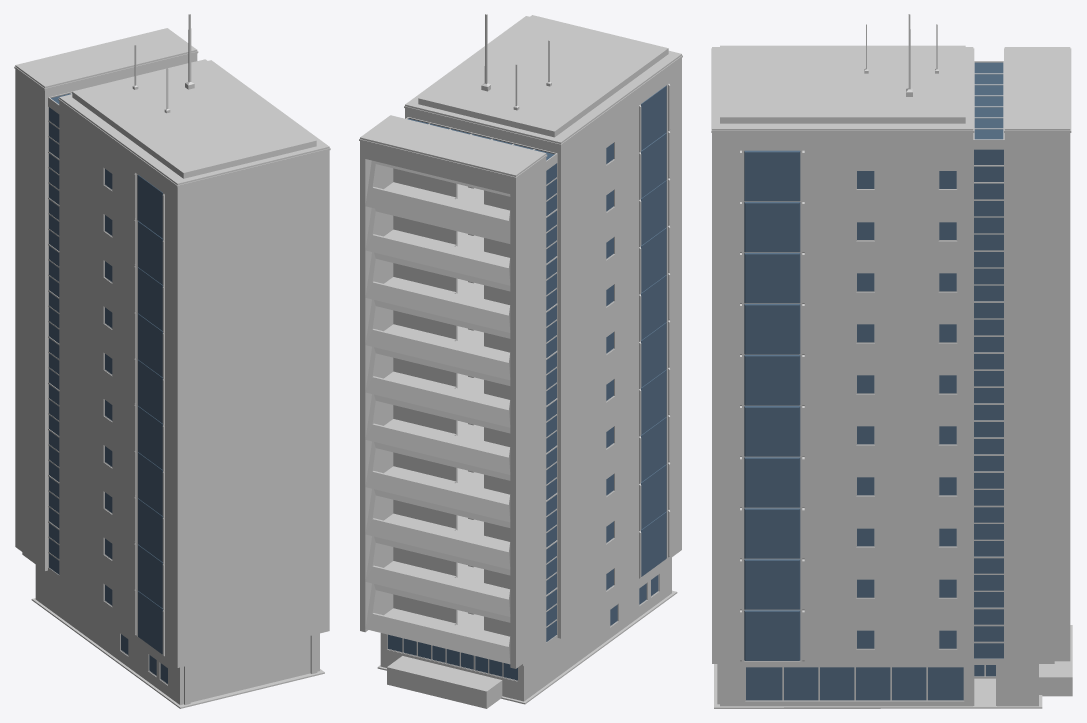
Rendered from res_06.glb.
The picture shows the model from 3 angles, left to right: view 1: azimuth 30°, elevation 25°; view 2: azimuth 150°, elevation 25°; view 3: azimuth 270°, elevation 25°; orthographic projection. The views are drawn at different scales.
Visible parts, largest first — view 1: Residential Buildings 006; view 2: Residential Buildings 006; view 3: Residential Buildings 006.
Boxes of the visible parts, box(x1,y1,x2,y2) form: Residential Buildings 006: box(14, 14, 330, 708); Residential Buildings 006: box(359, 14, 682, 708); Residential Buildings 006: box(711, 14, 1072, 708).
Bounding box in the file's own units: 12.59 × 47.19 × 23.09.
